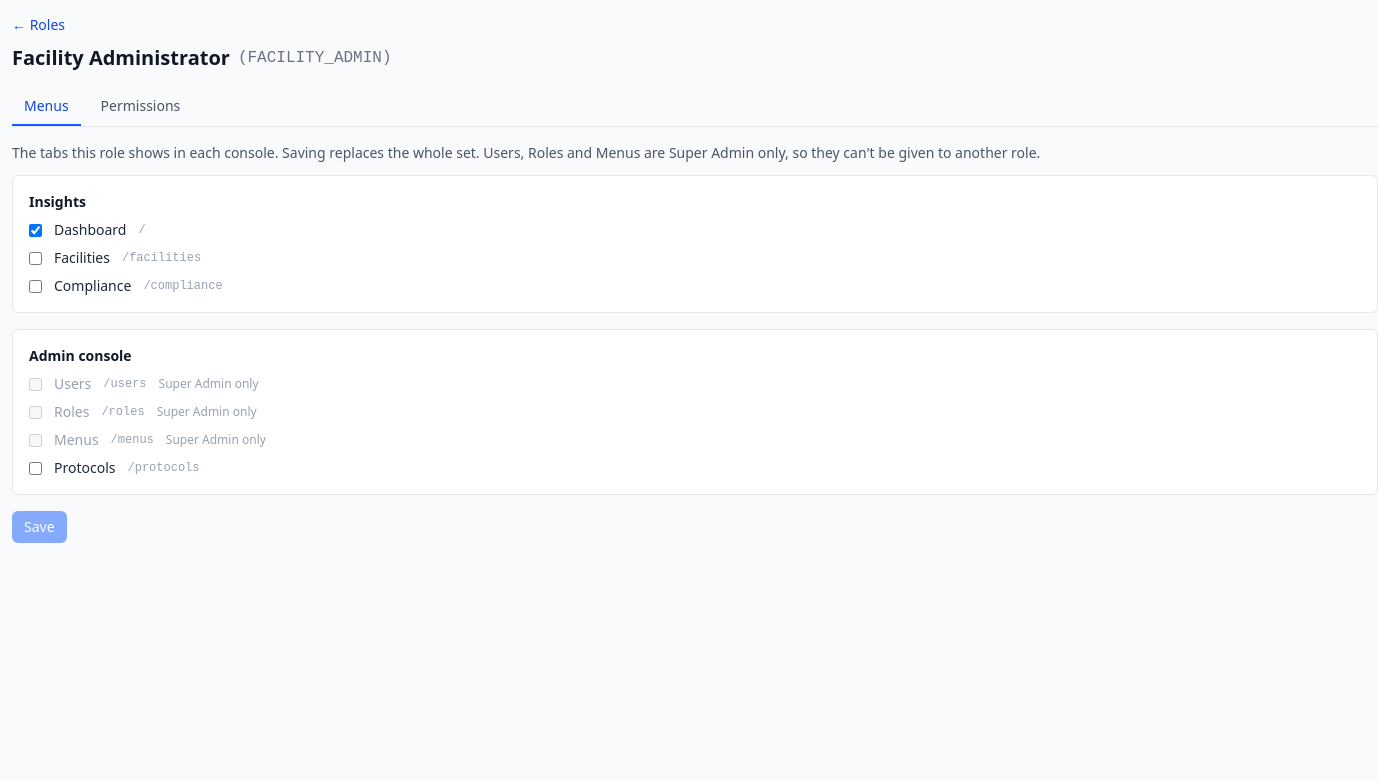
Scenario: RoleDetailPage — Menus tab › sends the COMPLETE menuIds set on save and is disabled again straight after
Expected: the checkbox labelled "Dashboard /" is shown, [29, 224, 42, 236]
Click the checkbox labelled "Facilities /facilities": (36, 258) [29, 252, 42, 264]
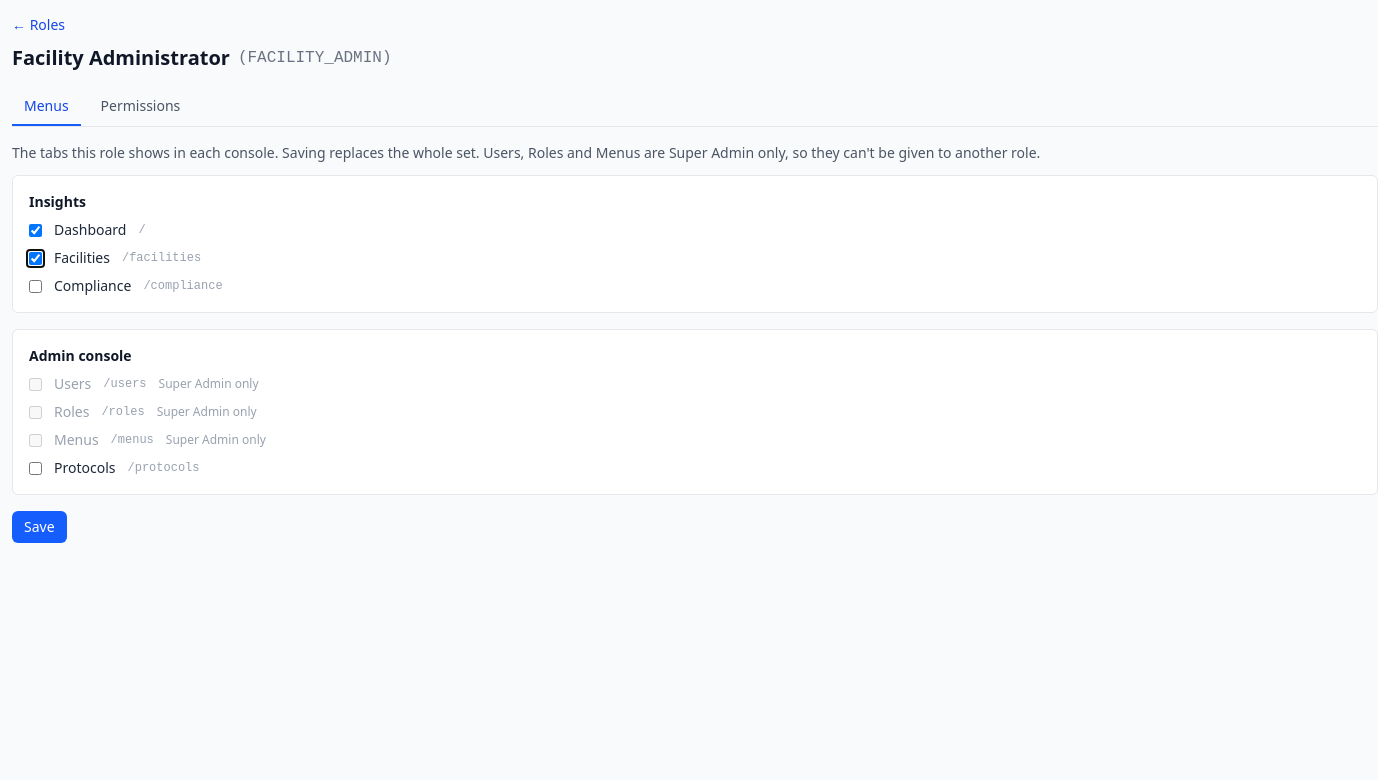
Click the button "Save": (39, 527) [12, 511, 67, 543]
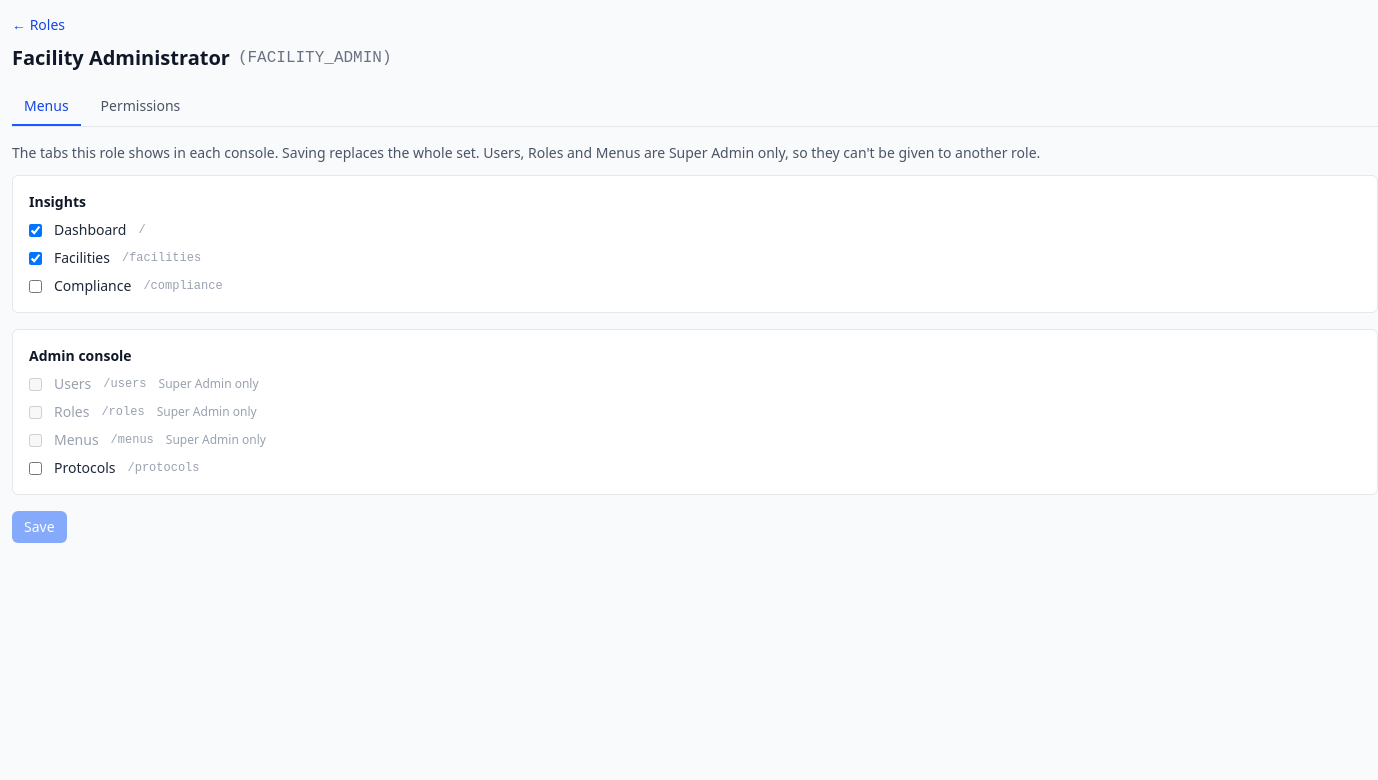
Expected: the checkbox labelled "Dashboard /" is checked, [29, 224, 42, 236]
Result: the checkbox labelled "Facilities /facilities" is checked at [29, 252, 42, 264]
Result: the button "Save" is disabled at [12, 511, 67, 543]
